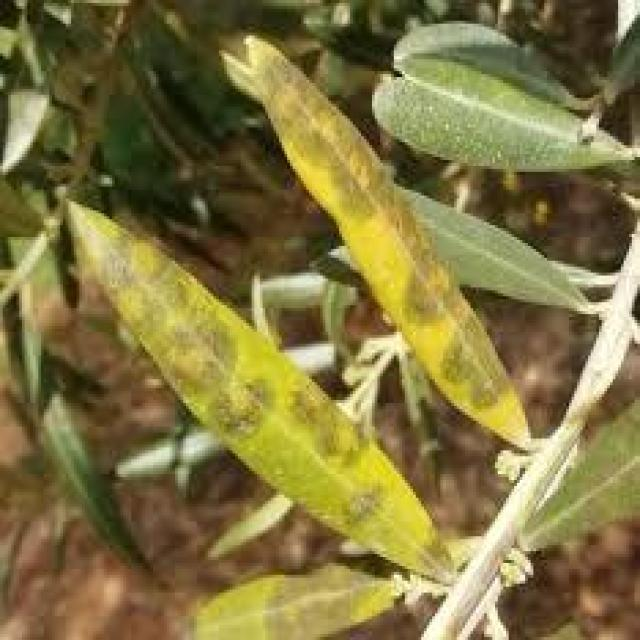Peacock Eye: (79, 204, 443, 572), (254, 41, 522, 439)
